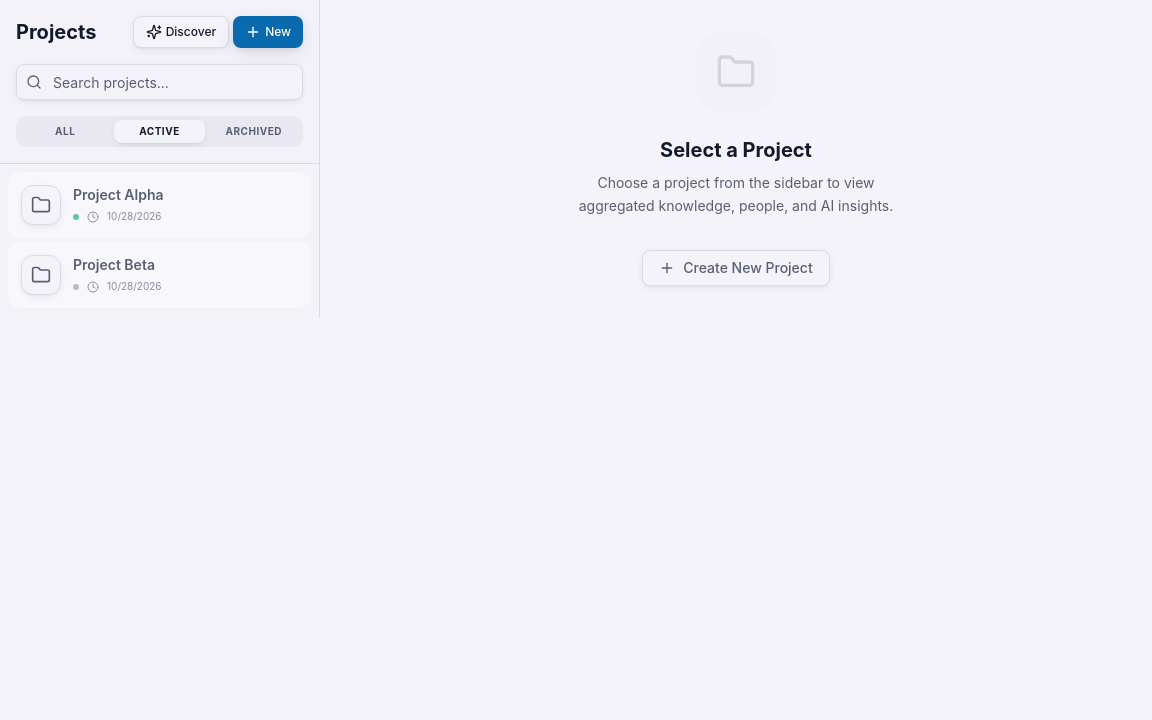
Test: Projects Page › should open create project dialog
Expected: the text "Project Alpha" is shown, [73, 186, 164, 203]
Click the "New" button in the sidebar header
Click the button "New": point(268, 32) [233, 16, 303, 48]
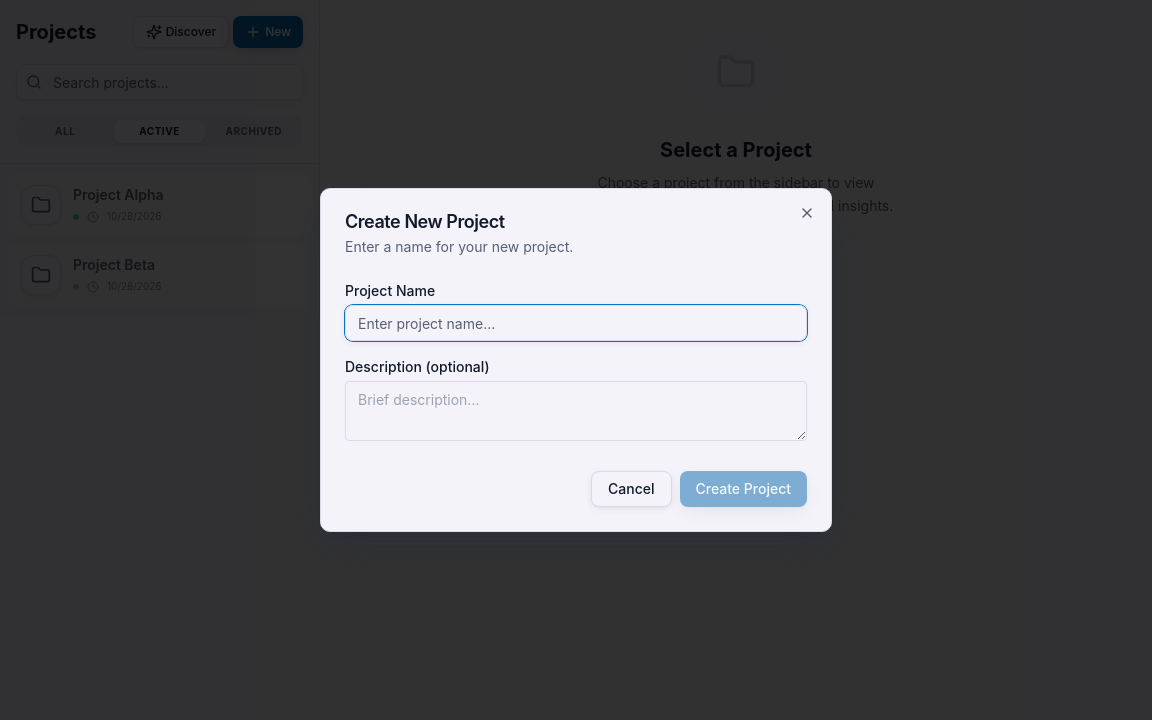
Result: the field with placeholder "Enter project name..." is shown at [345, 305, 807, 341]
Result: the text "Enter a name for your new project." is shown at [345, 238, 573, 255]
